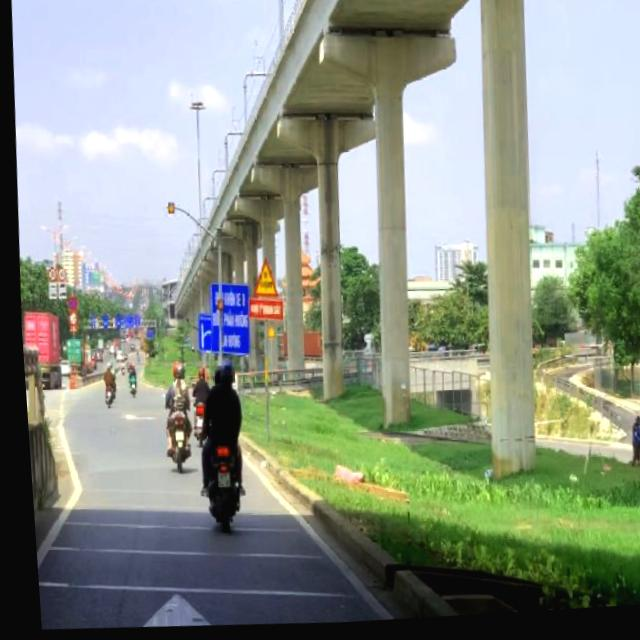Cam dung xe va do xe: (63, 295, 73, 312)
Di cham: (245, 258, 276, 302)
Toc do toi da cho phep: (44, 266, 54, 283), (53, 266, 62, 282)
